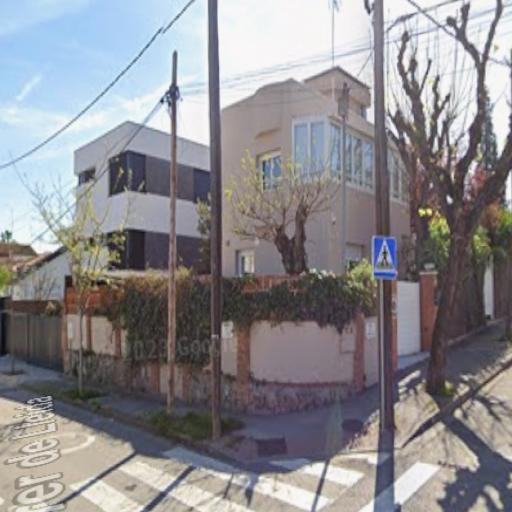poste: (369, 2, 399, 434), (204, 4, 226, 450), (166, 51, 182, 426)
